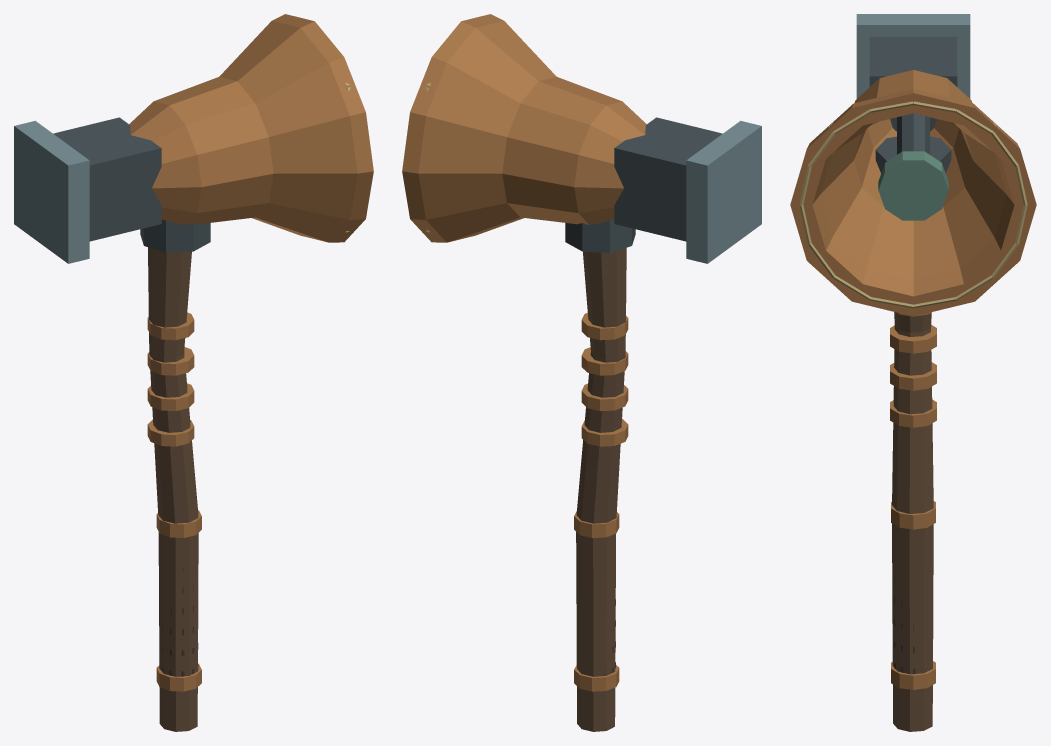
File: SWW_DrownedBellMaul.fbx
3 views of the same model, side by side, from view 1: azimuth 30°, elevation 25°; view 2: azimuth 150°, elevation 25°; view 3: azimuth 270°, elevation 25° (orthographic). The views are drawn at different scales.
Parts seen in each view (by area): view 1: SWW_DrownedBellMaul; view 2: SWW_DrownedBellMaul; view 3: SWW_DrownedBellMaul.
Boxes of the visible parts, box(x1,y1,x2,y2) form: SWW_DrownedBellMaul: box(14, 14, 373, 731); SWW_DrownedBellMaul: box(402, 14, 761, 731); SWW_DrownedBellMaul: box(790, 14, 1036, 731).
Size of the model in its own units: 0.567 by 1.32 by 0.422.
